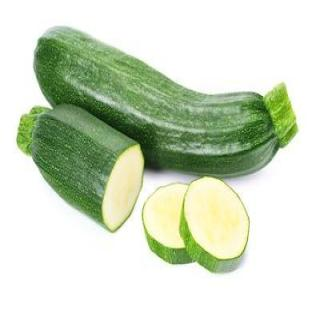Zucchini: (34, 28, 297, 176), (17, 106, 143, 231), (180, 178, 249, 272), (143, 183, 192, 263)
